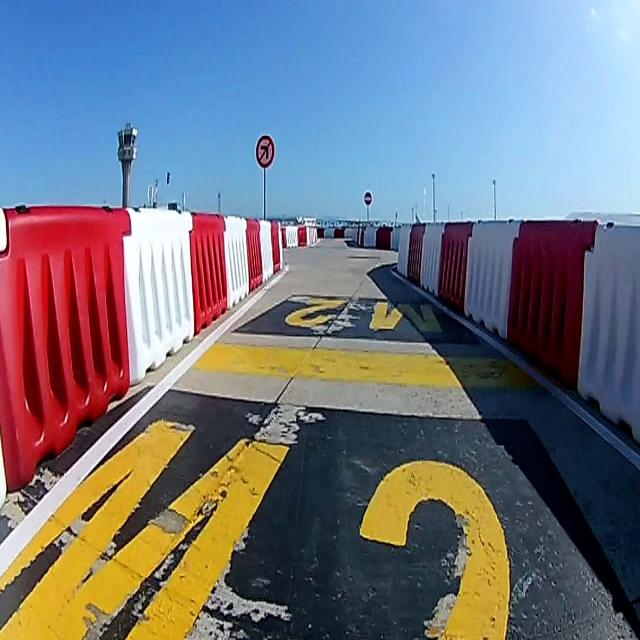girisyok: (364, 190, 374, 206)
soladonulmez: (255, 134, 273, 169)
